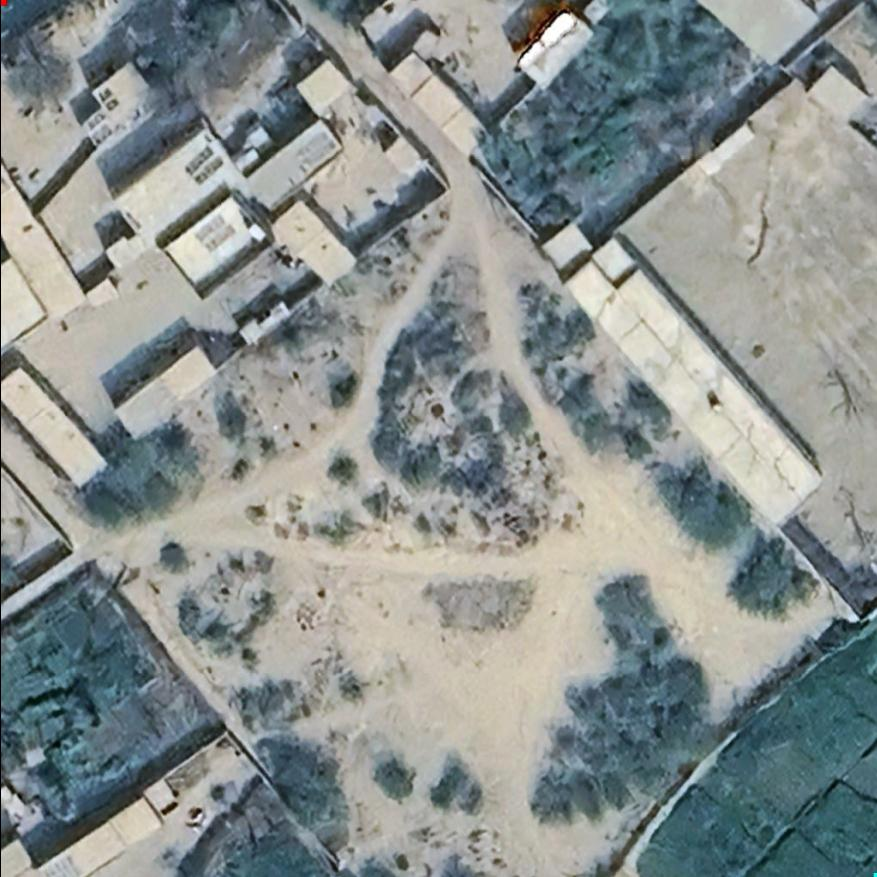Solarpanel: (186, 210, 245, 259), (178, 143, 232, 187), (80, 109, 116, 148), (92, 84, 121, 114)
